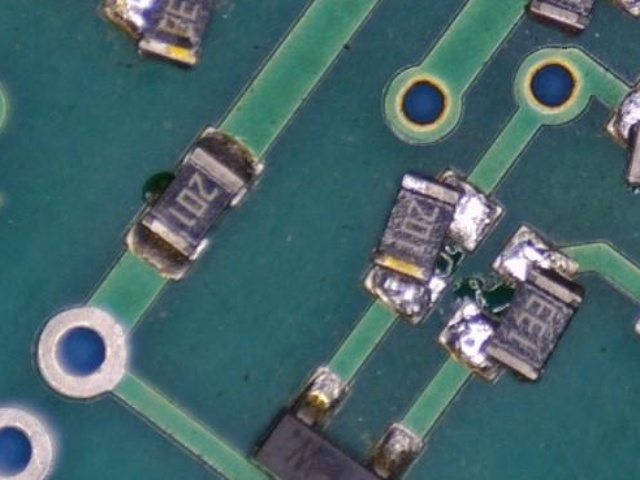pcb_defect: (436, 224, 585, 385), (360, 167, 506, 327), (604, 72, 640, 215)
